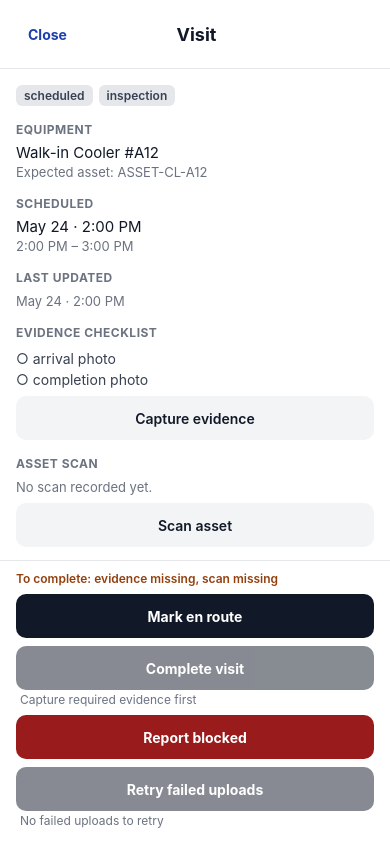
Test case: VisitDetailSheet › Scan asset opens the scanner inline panel
The image size is (390, 844).
Step 1. Click the button labelled "Scan asset" → click(195, 525), box left=16, top=503, right=374, bottom=547
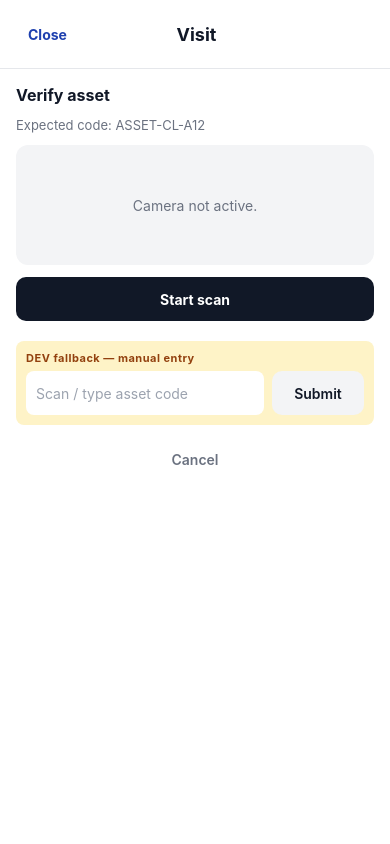
Result: the text "Verify asset" is shown at left=16, top=85, right=110, bottom=105
